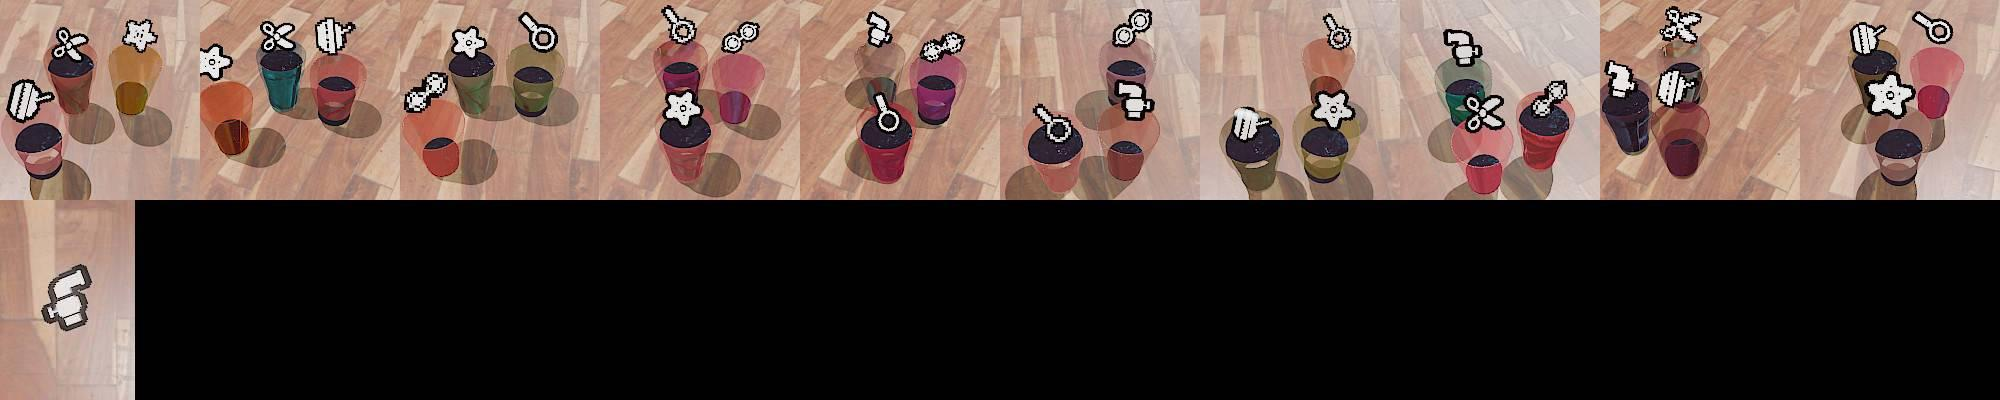icon: (40, 262, 93, 331), (1865, 73, 1917, 117), (5, 78, 55, 124), (403, 70, 450, 115), (1032, 102, 1078, 146), (1460, 90, 1506, 132), (1310, 89, 1356, 131), (1114, 78, 1157, 121), (518, 11, 560, 56), (1111, 8, 1154, 50), (1656, 65, 1698, 107), (1659, 5, 1704, 45), (314, 17, 355, 56), (1533, 78, 1570, 121), (1443, 28, 1483, 66), (51, 25, 91, 64), (661, 5, 698, 46), (1231, 104, 1269, 143), (1913, 10, 1954, 46), (662, 89, 703, 125), (920, 32, 964, 64), (450, 24, 489, 61), (871, 90, 903, 134), (1848, 19, 1885, 56), (199, 43, 235, 82), (722, 22, 761, 56), (1605, 59, 1638, 98), (121, 18, 157, 54), (260, 20, 298, 54), (1321, 13, 1352, 52), (866, 10, 893, 48)
